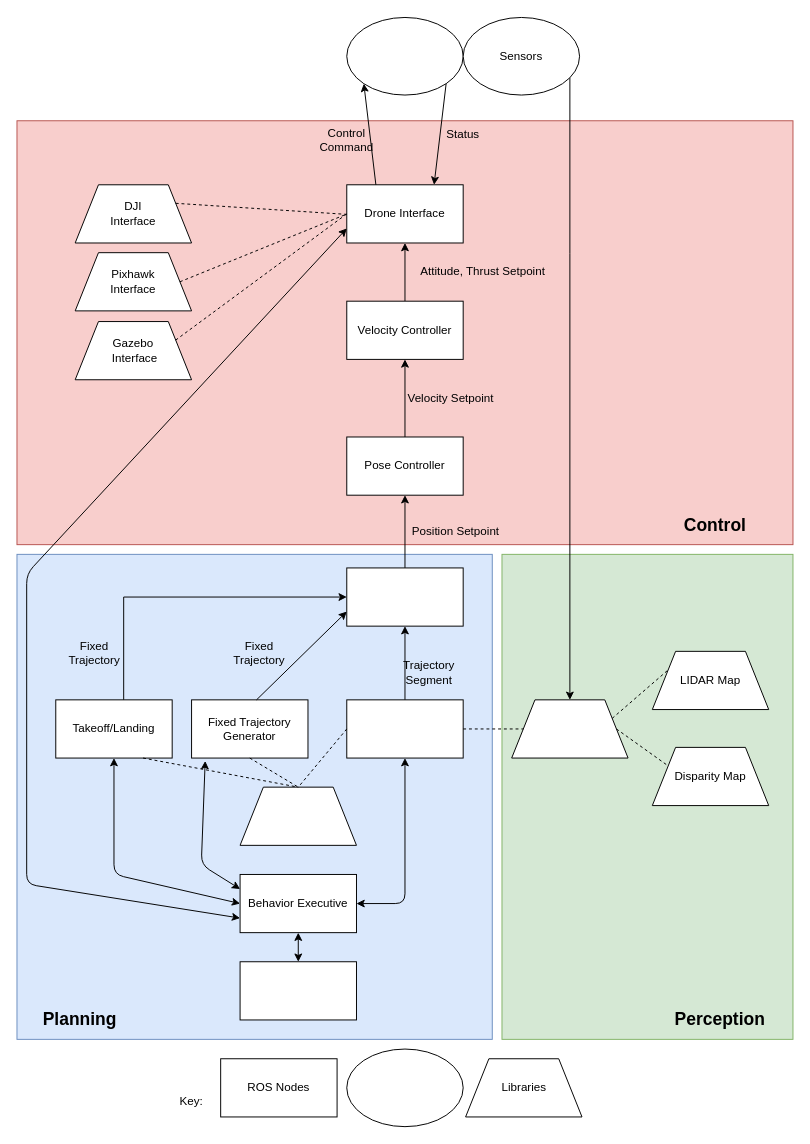
Image size: 810x1144. Some labels were removed from this diagram. The shapes that lost their labels are listed below. From the top down, each one's centre as x and y in pixels, then its label:
pixel 404 55: UAV
pixel 404 596: Trajectory Controller
pixel 404 728: Local Planner
pixel 569 728: Map Interface
pixel 297 815: Trajectory Library
pixel 297 990: Behavior Tree
pixel 404 1087: Hardware
